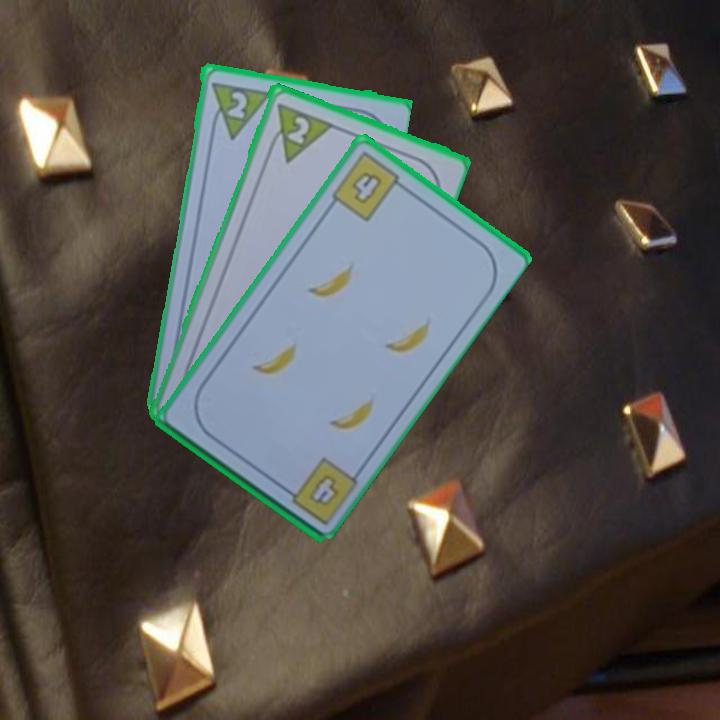2p: (262, 98, 335, 166), (206, 78, 271, 141)
4b: (327, 148, 409, 224), (304, 470, 342, 509)
